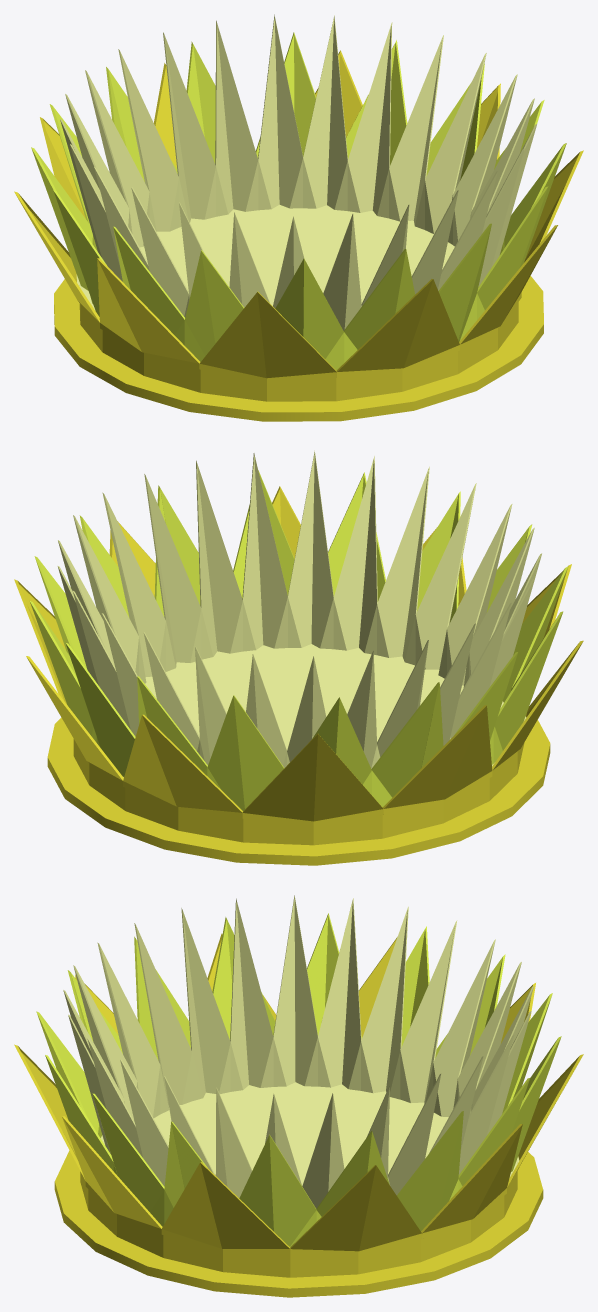
The model's file is portal_000023.obj.
3 views of the same model, one above another, from view 1: azimuth 30°, elevation 25°; view 2: azimuth 150°, elevation 25°; view 3: azimuth 270°, elevation 25° (orthographic). The views are drawn at different scales.
Visible parts, largest first — view 1: Cylinder.001, pCylinder1, Cylinder; view 2: Cylinder.001, pCylinder1, Cylinder; view 3: Cylinder.001, pCylinder1, Cylinder.
Boxes of the visible parts, bbox=[...] form: Cylinder.001: bbox=[60, 14, 536, 330]; pCylinder1: bbox=[14, 50, 583, 421]; Cylinder: bbox=[31, 32, 566, 370]; Cylinder.001: bbox=[57, 450, 541, 768]; pCylinder1: bbox=[14, 486, 583, 865]; Cylinder: bbox=[29, 470, 568, 811]; Cylinder.001: bbox=[63, 895, 533, 1208]; pCylinder1: bbox=[14, 933, 583, 1297]; Cylinder: bbox=[36, 913, 561, 1247].
Size of the model in its own units: 7.17 by 2.9 by 7.44.
3 materials, 3 textured.
